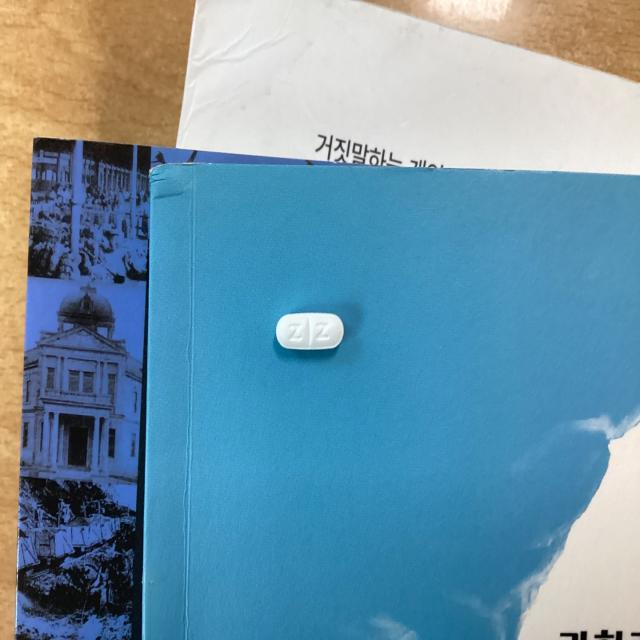-: (270, 298, 351, 359)
